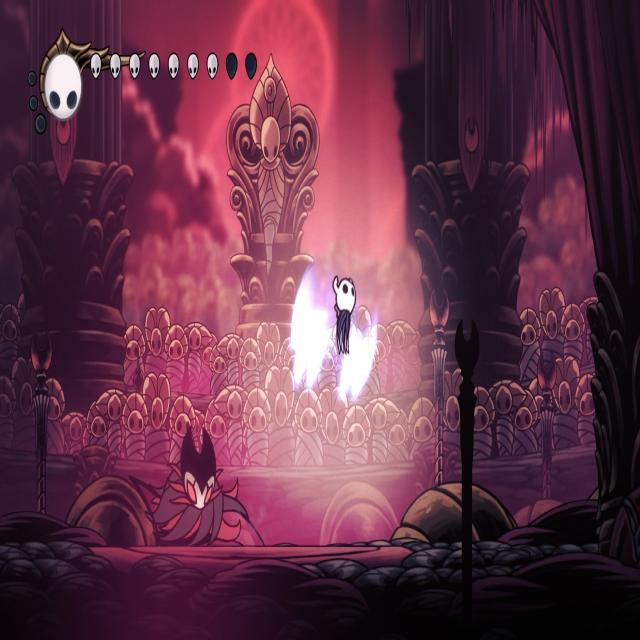Dive Dash: (128, 408, 273, 544)
Player: (328, 271, 361, 365)
